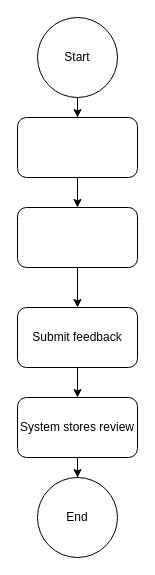
This 155x575 diagram has some shape labels left out. The shapes that lost their labels are listed below. From the top down, each one's centre as x and y in pixels, then its label:
At [77,147]: "Open completed appointment".
At [77,237]: "Select rating".
